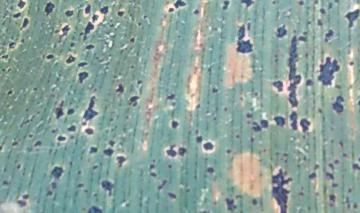tarspot: (269, 168, 295, 212), (287, 34, 302, 110), (317, 54, 341, 88), (234, 22, 254, 55), (82, 94, 98, 121), (345, 6, 360, 30), (100, 177, 116, 197), (273, 22, 290, 38), (50, 162, 64, 181), (223, 194, 237, 212), (331, 95, 345, 113), (269, 79, 286, 93), (289, 109, 300, 130), (43, 1, 57, 17), (153, 179, 170, 192), (165, 141, 176, 160), (273, 113, 286, 129), (322, 28, 336, 42), (51, 105, 64, 120), (301, 116, 312, 133), (219, 1, 232, 15), (19, 16, 31, 31), (115, 153, 127, 168), (84, 204, 103, 213), (323, 169, 336, 182), (59, 23, 71, 37), (114, 80, 124, 96), (84, 21, 94, 37), (77, 70, 89, 83), (66, 103, 75, 119), (204, 164, 216, 176), (165, 91, 177, 103), (126, 34, 138, 46), (87, 145, 100, 156), (169, 117, 180, 130), (249, 195, 260, 208), (127, 95, 140, 106), (48, 180, 61, 191), (82, 42, 96, 52), (240, 1, 254, 11), (14, 1, 29, 10), (16, 197, 27, 209), (64, 54, 76, 65), (64, 8, 76, 19), (98, 3, 109, 15), (101, 147, 113, 158), (65, 123, 77, 134), (348, 162, 360, 173), (325, 192, 337, 203), (306, 170, 318, 181), (208, 84, 220, 95), (55, 134, 68, 144), (83, 127, 96, 137), (178, 145, 188, 158), (116, 7, 126, 20), (315, 104, 325, 117), (304, 77, 315, 88), (11, 11, 23, 21), (106, 138, 118, 148), (30, 85, 42, 95), (8, 39, 17, 52), (77, 60, 91, 68), (83, 2, 91, 16), (250, 119, 258, 133), (203, 141, 214, 151), (259, 118, 269, 129), (9, 138, 20, 148), (68, 40, 78, 51), (90, 162, 100, 173), (44, 52, 56, 61), (73, 181, 85, 190), (135, 76, 144, 88), (175, 1, 188, 9), (225, 145, 233, 158), (247, 133, 255, 146), (345, 184, 353, 197), (246, 109, 254, 122), (315, 18, 325, 28), (194, 134, 204, 144), (1, 52, 11, 62), (191, 7, 201, 17), (312, 161, 322, 171), (166, 192, 177, 201), (166, 5, 175, 16), (6, 87, 15, 98), (148, 171, 159, 180), (351, 200, 359, 212), (33, 139, 42, 149), (326, 161, 336, 170), (148, 161, 158, 170), (1, 177, 10, 187), (165, 162, 175, 171), (15, 162, 23, 173), (339, 151, 349, 159), (318, 8, 327, 16), (296, 1, 308, 7), (136, 20, 143, 30), (76, 169, 83, 177), (347, 60, 355, 67)
